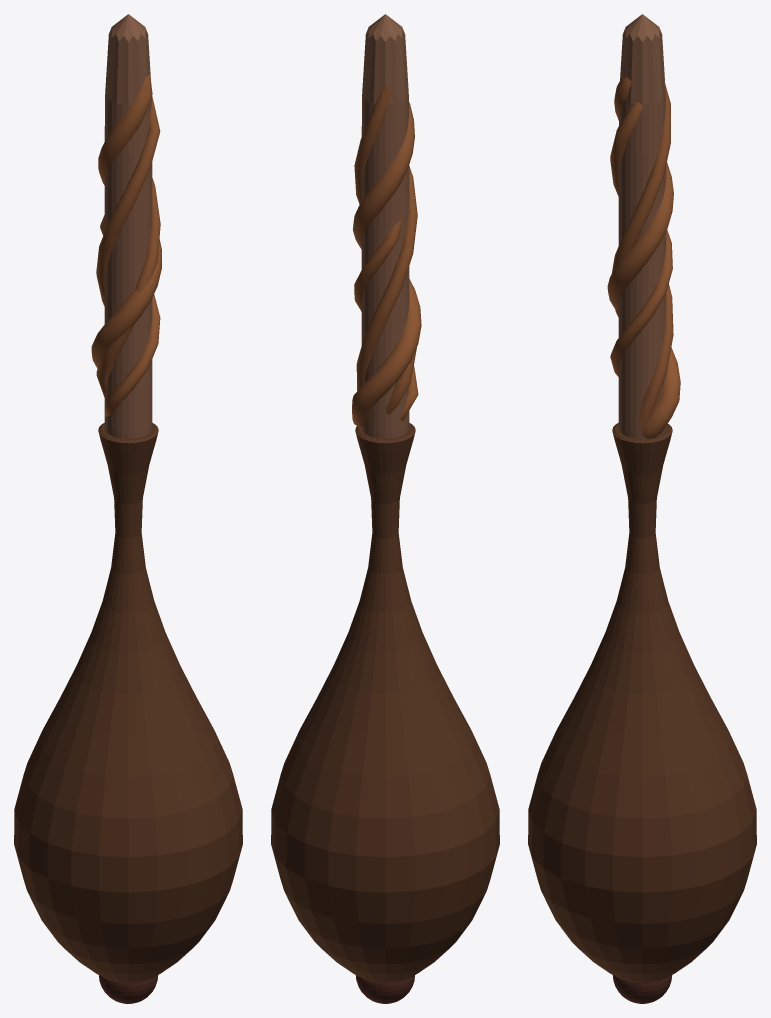
File: Wand 973.glb
3 views of the same model, side by side, from view 1: azimuth 30°, elevation 25°; view 2: azimuth 150°, elevation 25°; view 3: azimuth 270°, elevation 25° (orthographic).
Visible parts, largest first — view 1: GeneratedWand; view 2: GeneratedWand; view 3: GeneratedWand.
Boxes of the visible parts, x1,y1,x2,y2 form: GeneratedWand: [14, 14, 242, 1003]; GeneratedWand: [271, 14, 499, 1003]; GeneratedWand: [528, 14, 756, 1003].
Bounding box in the file's own units: 0.1026 × 0.4883 × 0.1026.
